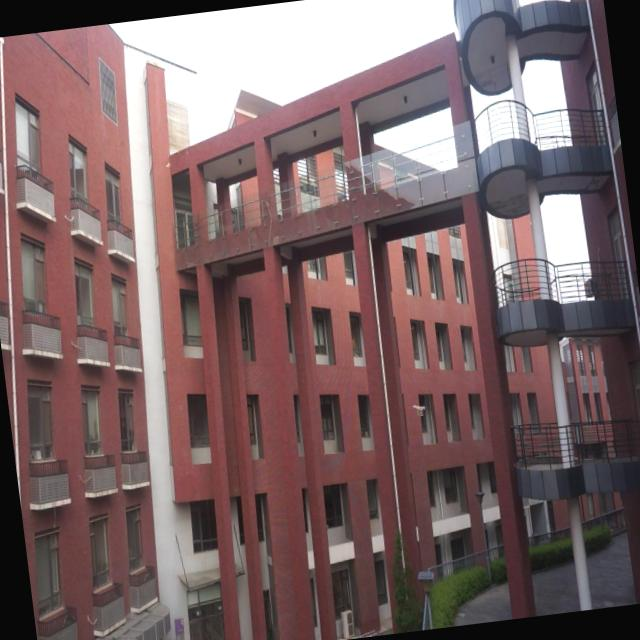drone: (411, 399, 429, 418)
